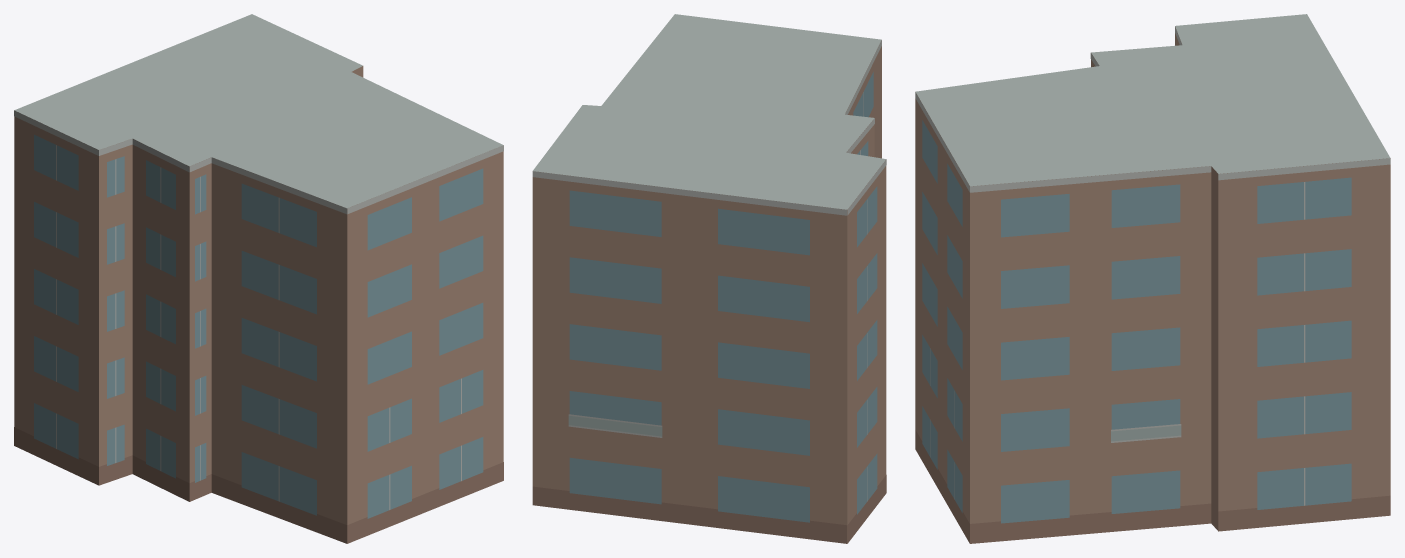
File: survey-upis-32990374.glb
3 renders of one model, left to right at view 1: azimuth 30°, elevation 25°; view 2: azimuth 150°, elevation 25°; view 3: azimuth 270°, elevation 25°, orthographic. The views are drawn at different scales.
Visible parts, largest first — view 1: survey-upis-32990374.tmp; view 2: survey-upis-32990374.tmp; view 3: survey-upis-32990374.tmp.
Boxes of the visible parts, bbox=[...] form: survey-upis-32990374.tmp: bbox=[14, 14, 503, 543]; survey-upis-32990374.tmp: bbox=[532, 14, 886, 543]; survey-upis-32990374.tmp: bbox=[915, 14, 1390, 543].
Size of the model in its own units: 14.03 by 13.56 by 16.34.
